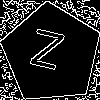Z: (26, 28, 65, 80)
